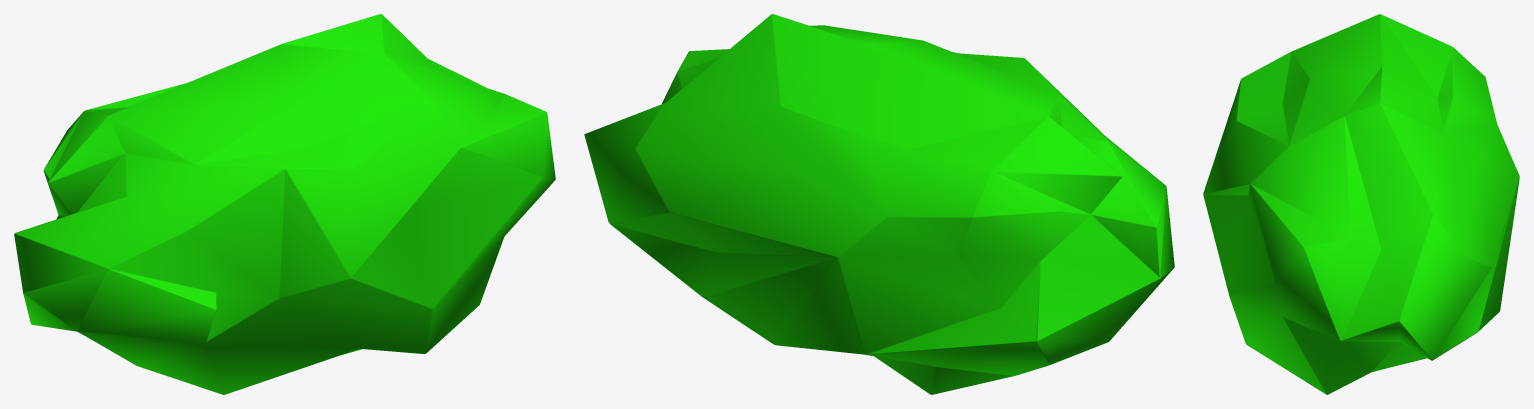
The model's file is bush.fbx.
3 views of the same model, side by side, from view 1: azimuth 30°, elevation 25°; view 2: azimuth 150°, elevation 25°; view 3: azimuth 270°, elevation 25° (orthographic). The views are drawn at different scales.
Parts seen in each view (by area): view 1: Hedra001; view 2: Hedra001; view 3: Hedra001.
Boxes of the visible parts, x1,y1,x2,y2 form: Hedra001: (14,14,555,394); Hedra001: (584,14,1174,394); Hedra001: (1203,14,1519,394).
Bounding box in the file's own units: 297 × 163 × 163.
